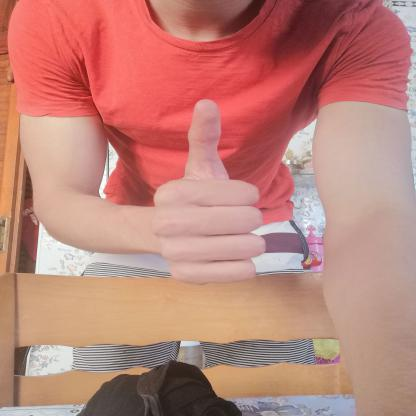ALIF: (135, 86, 282, 299)
